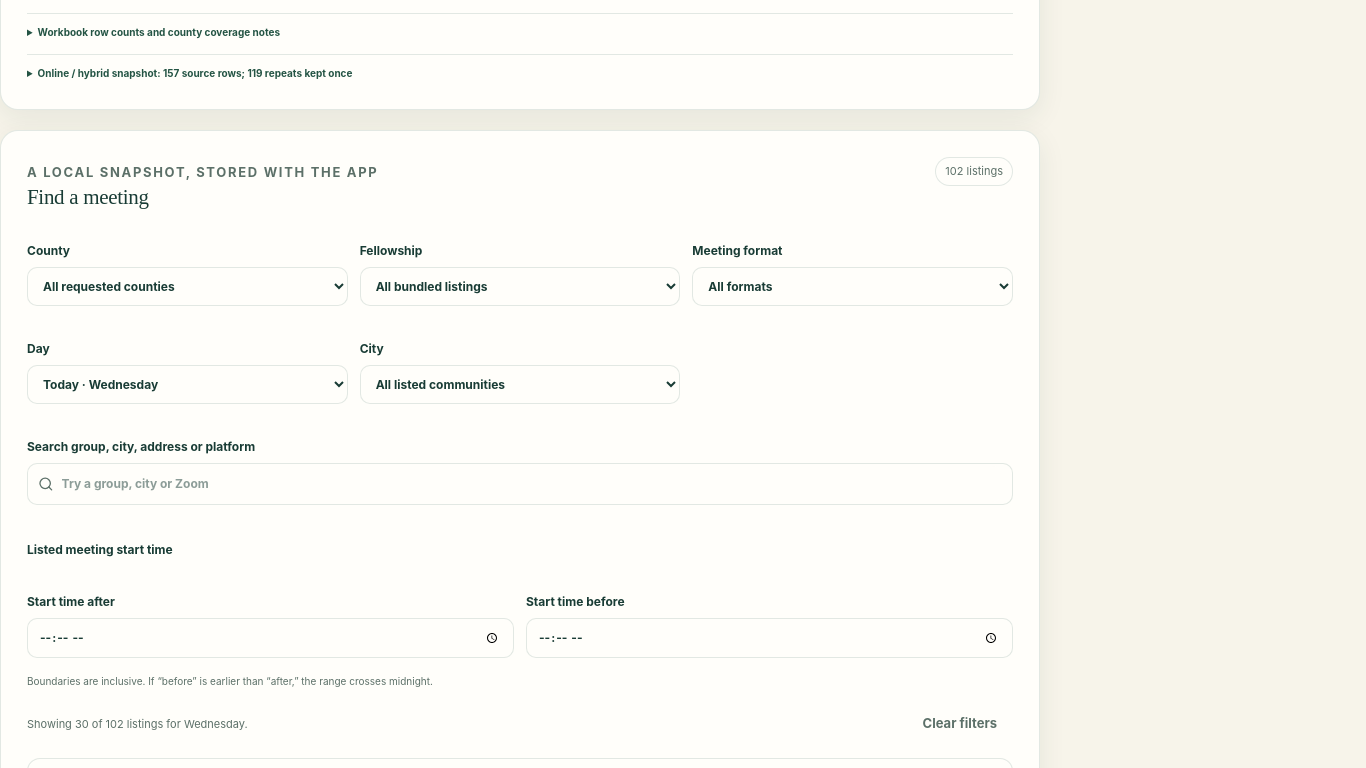
Test: MeetingsPage › filters local listings by an inclusive meeting start-time range
The width and height of the screenshot is (1366, 768).
(page scrolled)
Select "Tuesday" in the dropdown labelled "Day" at (187, 384), box [27,365,348,404]
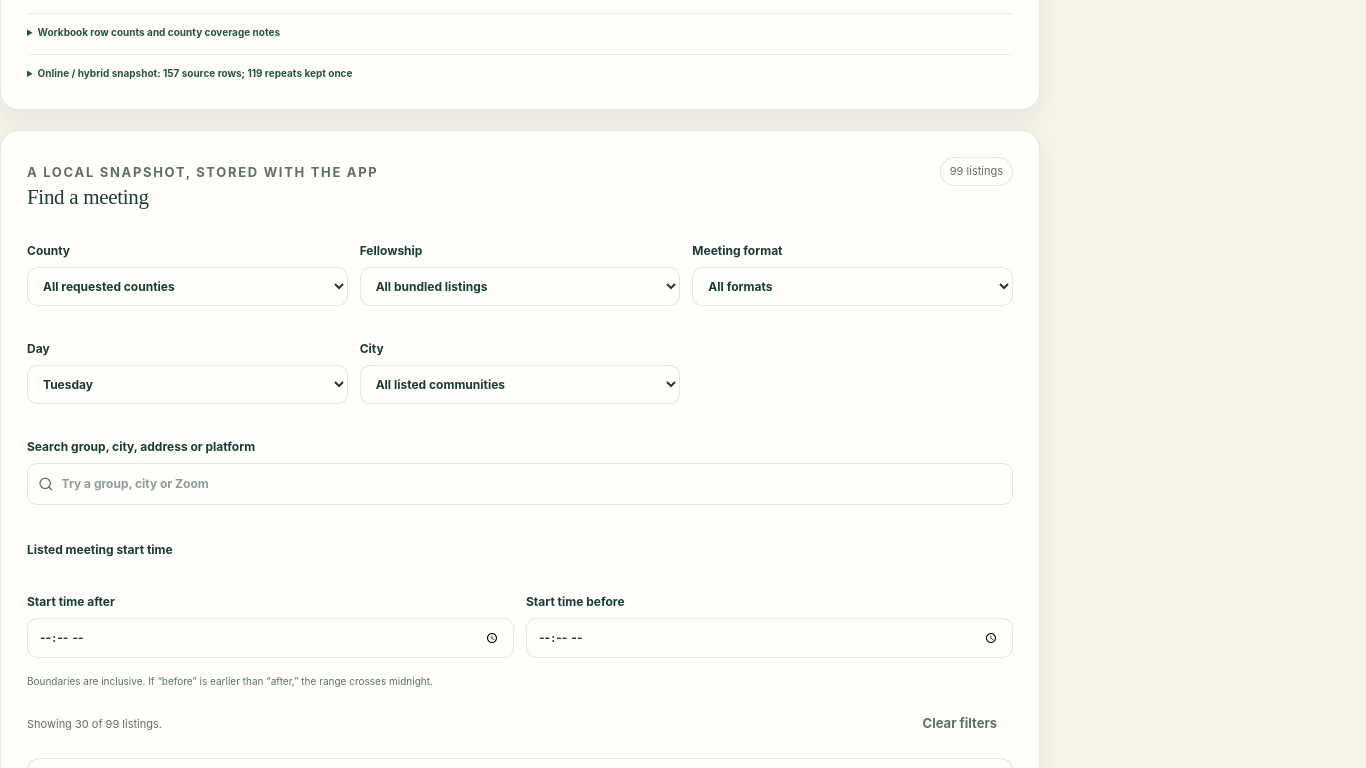
Select "NA only" in the dropdown labelled "Fellowship" at (520, 286), box [360,267,680,306]
Select "Turlock" in the dropdown labelled "City" at (520, 384), box [360,365,680,404]
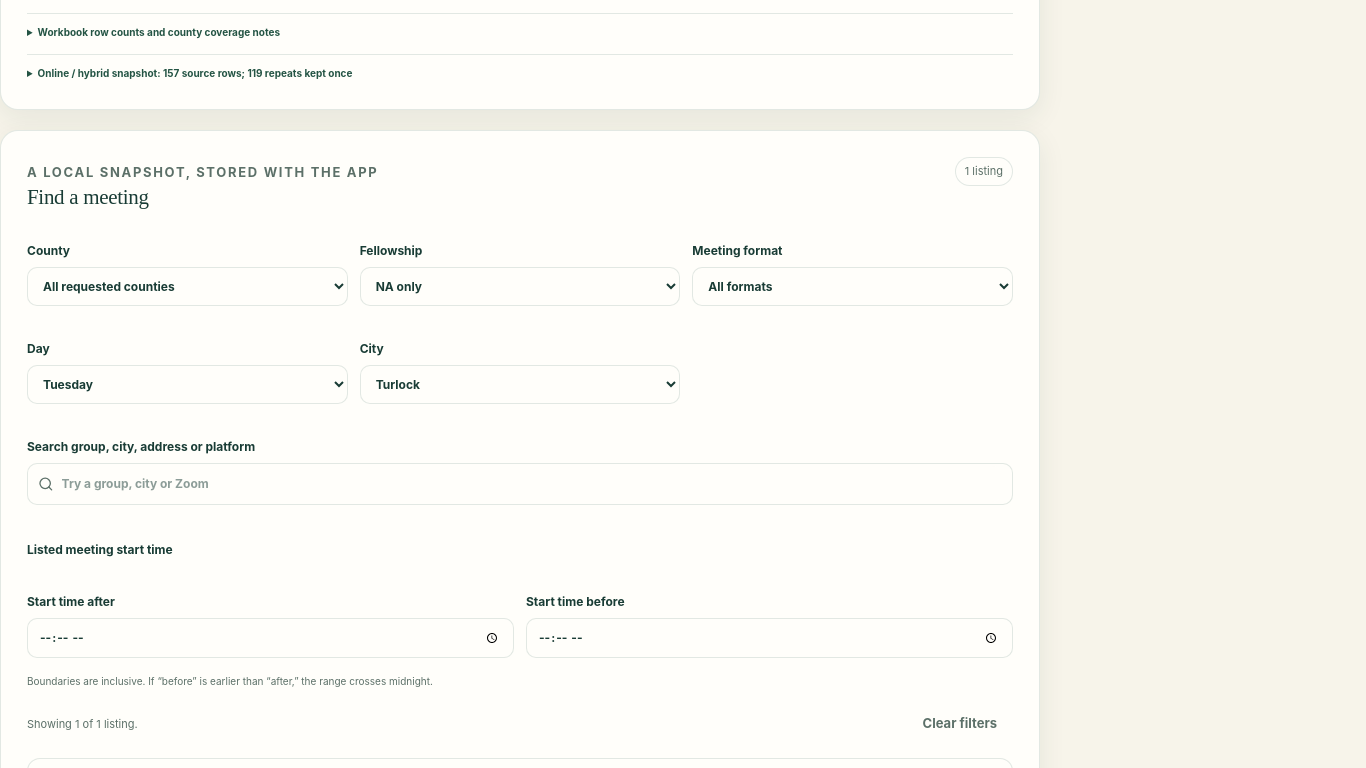
Type "true solutions" into the search field labelled "Search group, city, address or platform" at (532, 484), box [62,466,1002,502]
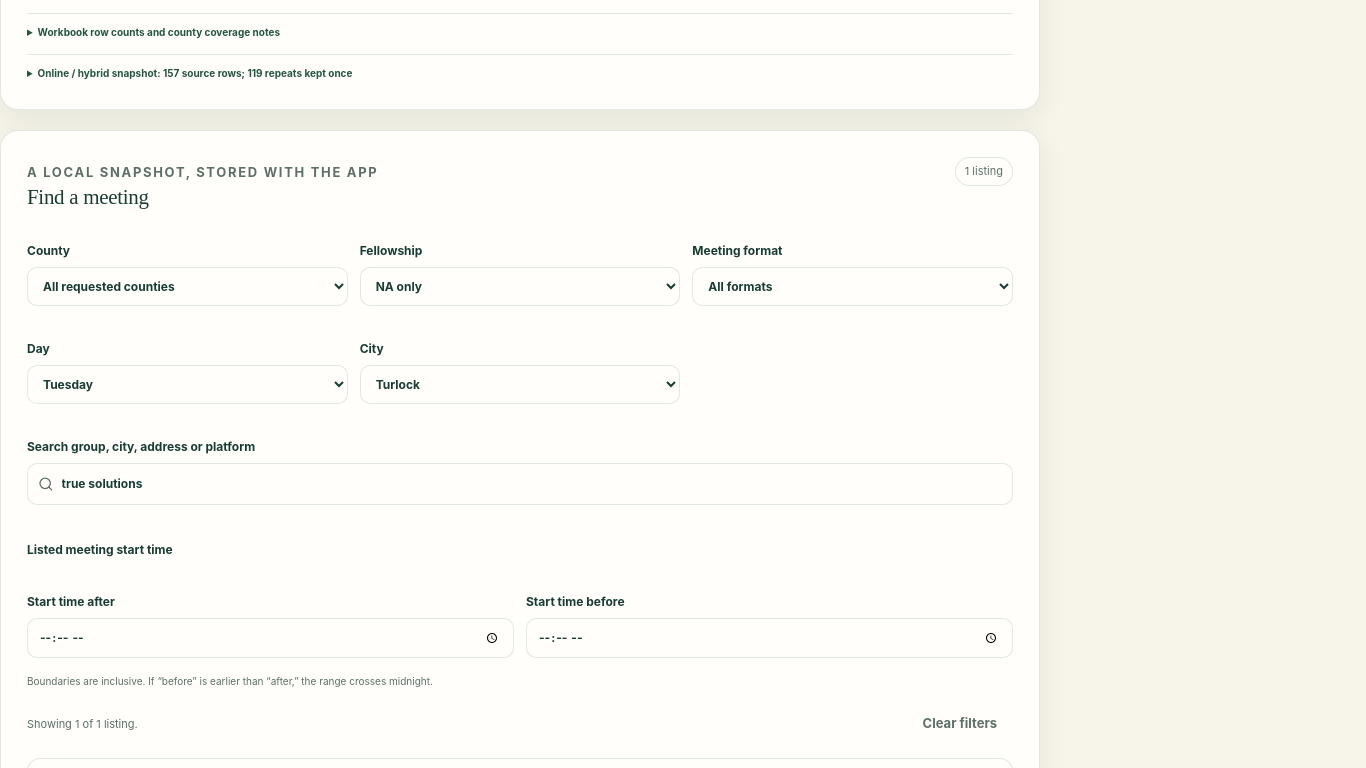
Type "17:30" into the time field labelled "Start time after" at (270, 638), box [27,618,514,658]
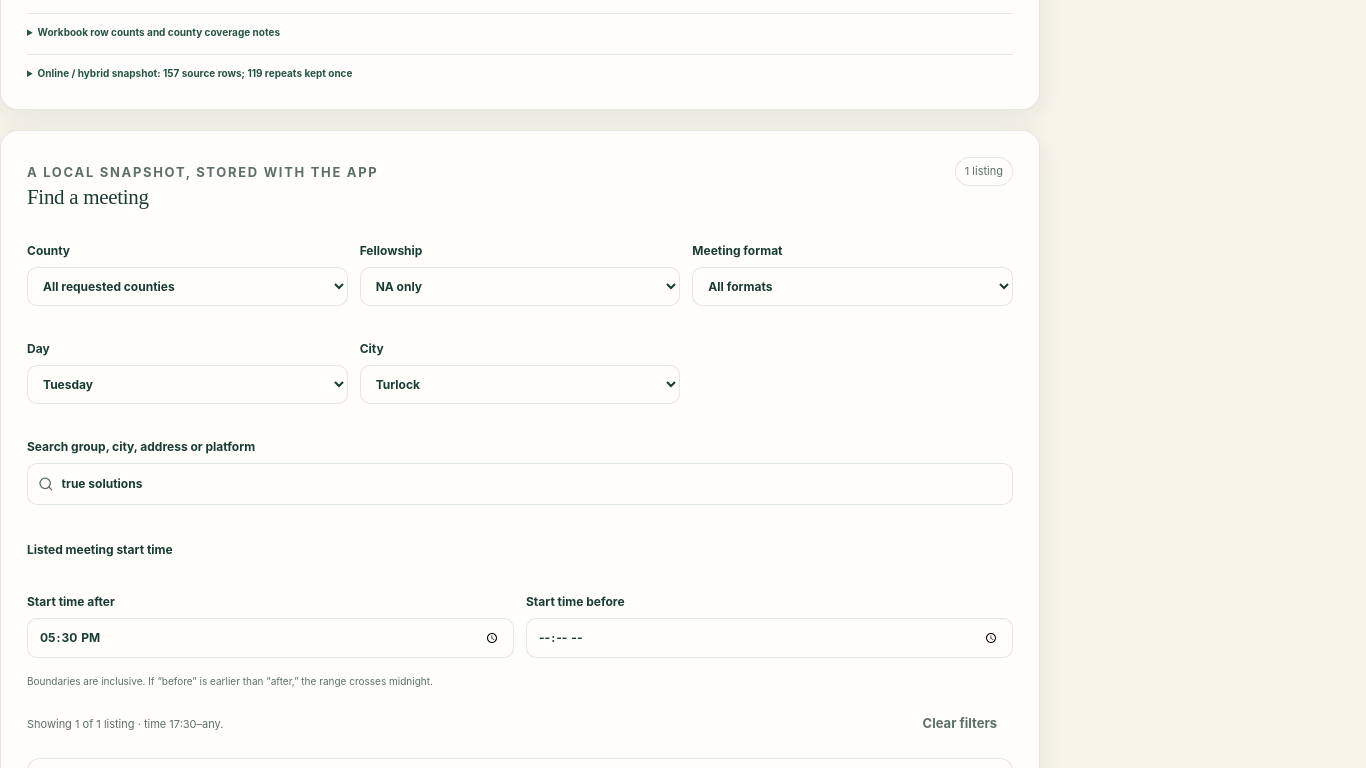
Type "18:30" into the time field labelled "Start time before" at (770, 638), box [526,618,1013,658]
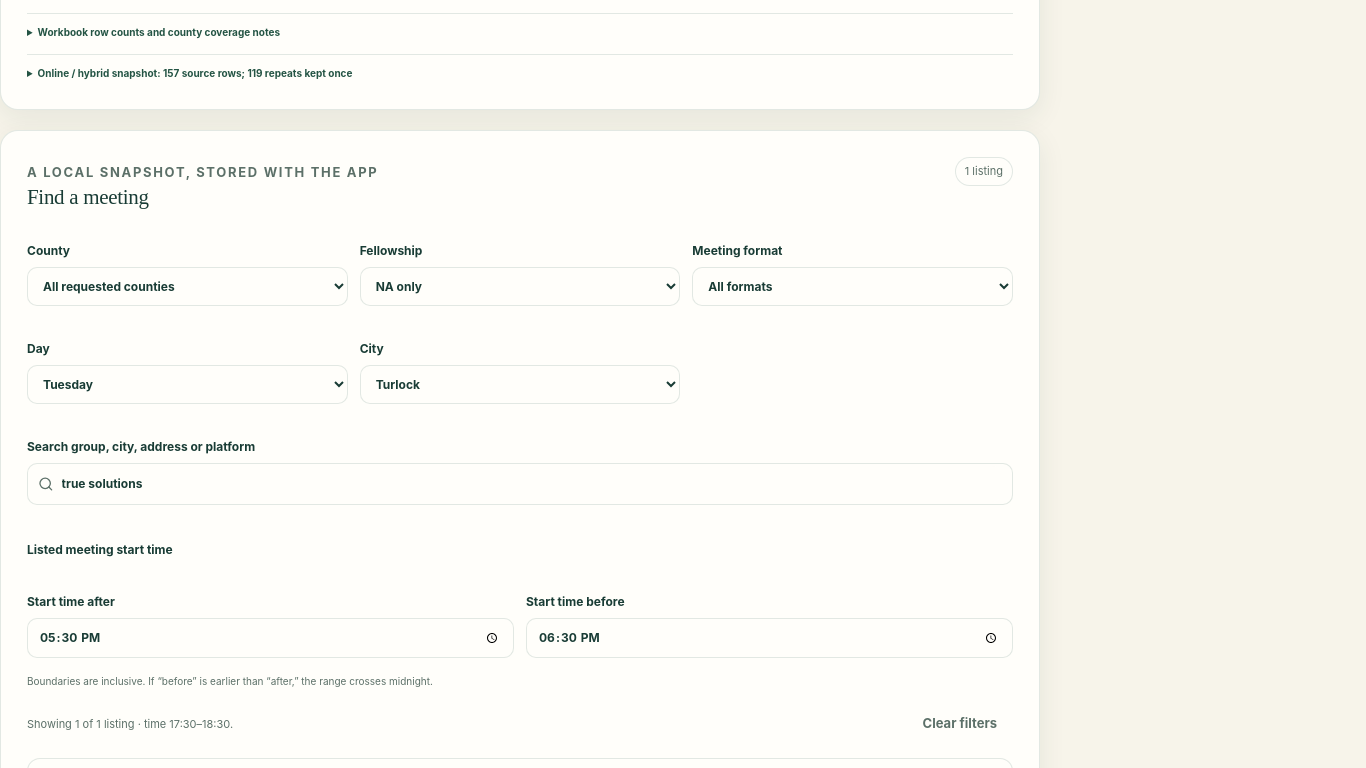
Replace the text in the time field labelled "Start time after" with "18:01" at (270, 638), box [27,618,514,658]
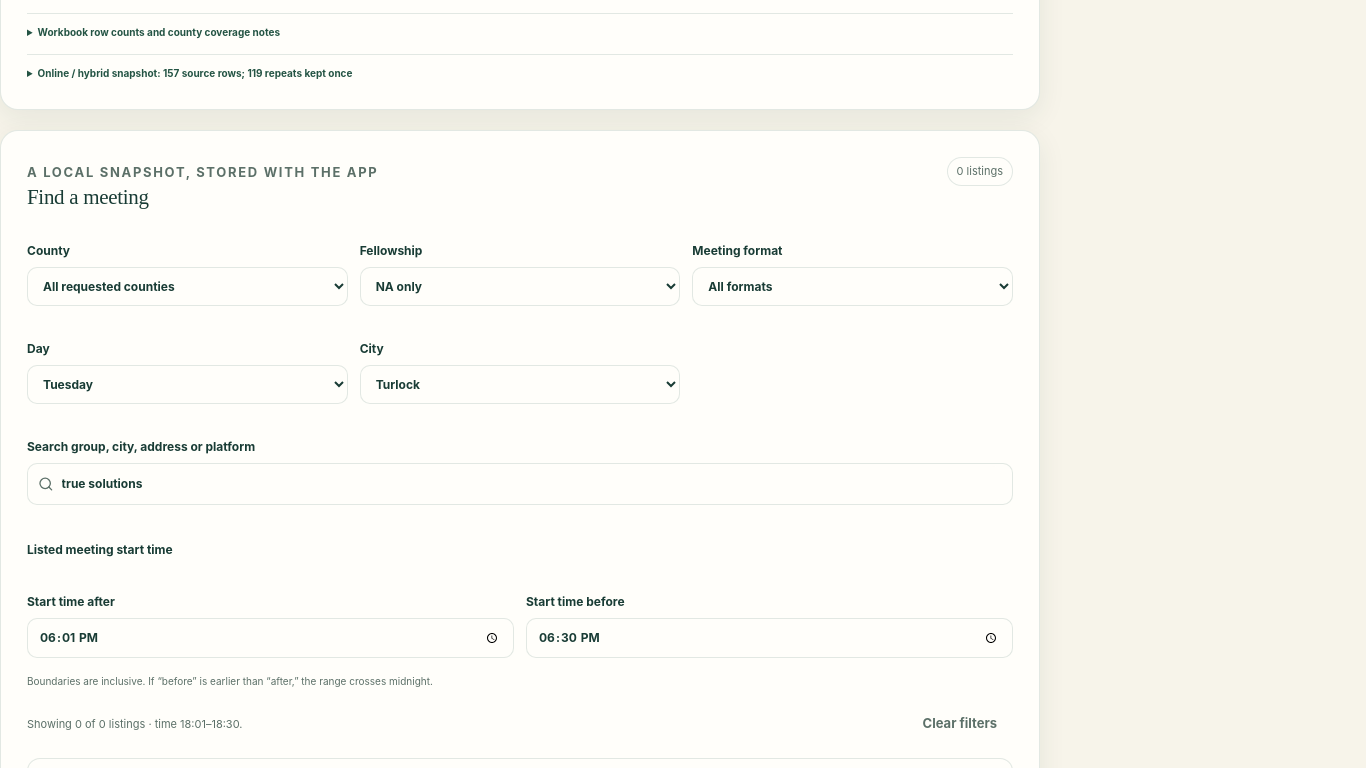
Expected: the text "Showing 0 of 0 listings · time 18:01–18:30. Clear filters" is shown, [27,703,1013,745]
